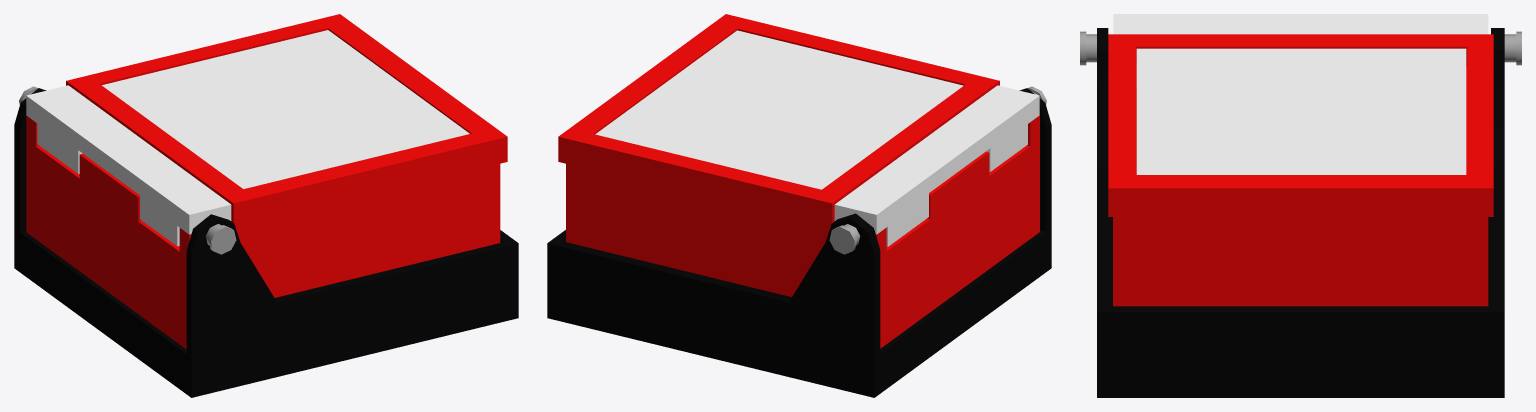
File: Guarded_Red_Button_V1.fbx
3 renders of one model, left to right at view 1: azimuth 30°, elevation 25°; view 2: azimuth 150°, elevation 25°; view 3: azimuth 270°, elevation 25°, orthographic. The views are drawn at different scales.
Parts seen in each view (by area): view 1: Switch_Casing_Outer, Button_Casing, Guard_Center, Guard_Trim, Guard1, Hinge; view 2: Switch_Casing_Outer, Button_Casing, Guard_Center, Guard_Trim, Guard1, Hinge; view 3: Switch_Casing_Outer, Guard_Center, Button_Casing, Guard_Trim, Guard1, Hinge.
Part boxes in pixels (x1,y1,x2,y2): Switch_Casing_Outer: (14,88,518,397); Button_Casing: (26,115,500,349); Guard_Center: (102,30,469,188); Guard_Trim: (66,14,507,227); Guard1: (26,85,231,246); Hinge: (19,86,236,254); Switch_Casing_Outer: (547,88,1051,397); Button_Casing: (566,115,1039,348); Guard_Center: (595,30,963,189); Guard_Trim: (558,14,999,227); Guard1: (834,85,1039,246); Hinge: (829,86,1046,254); Switch_Casing_Outer: (1097,28,1504,397); Guard_Center: (1136,48,1466,174); Button_Casing: (1113,66,1488,306); Guard_Trim: (1108,34,1493,216); Guard1: (1113,14,1488,34); Hinge: (1080,31,1521,65).
Size of the model in its own units: 2.89 by 1.51 by 2.94.
